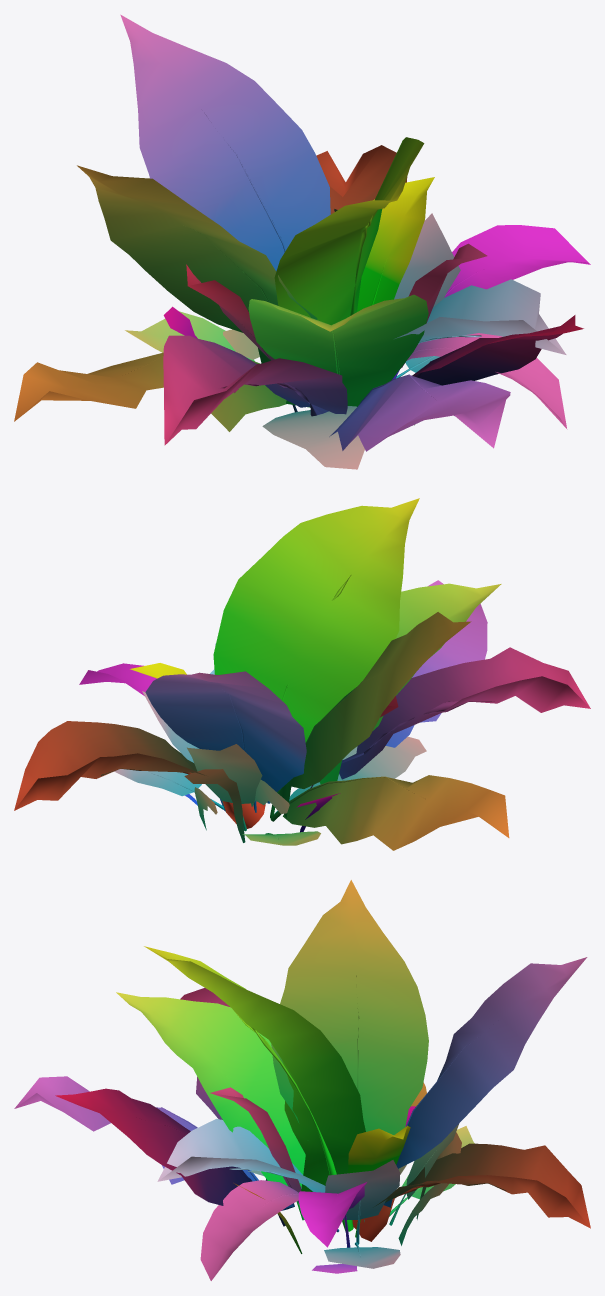
The model's file is Lady_Fern_wdvlditia_Mid_wdvlditia_VarE_LOD0.fbx.
The picture shows the model from 3 angles, top to bottom: view 1: azimuth 30°, elevation 25°; view 2: azimuth 150°, elevation 25°; view 3: azimuth 270°, elevation 25°; orthographic projection. The views are drawn at different scales.
Parts seen in each view (by area): view 1: _xw54_VarE_LOD2; view 2: _xw54_VarE_LOD2; view 3: _xw54_VarE_LOD2.
Part boxes in pixels (left/top/right/bottom): _xw54_VarE_LOD2: left=14, top=14, right=590, bottom=469; _xw54_VarE_LOD2: left=14, top=498, right=590, bottom=850; _xw54_VarE_LOD2: left=14, top=880, right=590, bottom=1280.
Size of the model in its own units: 157 by 88.96 by 175.
